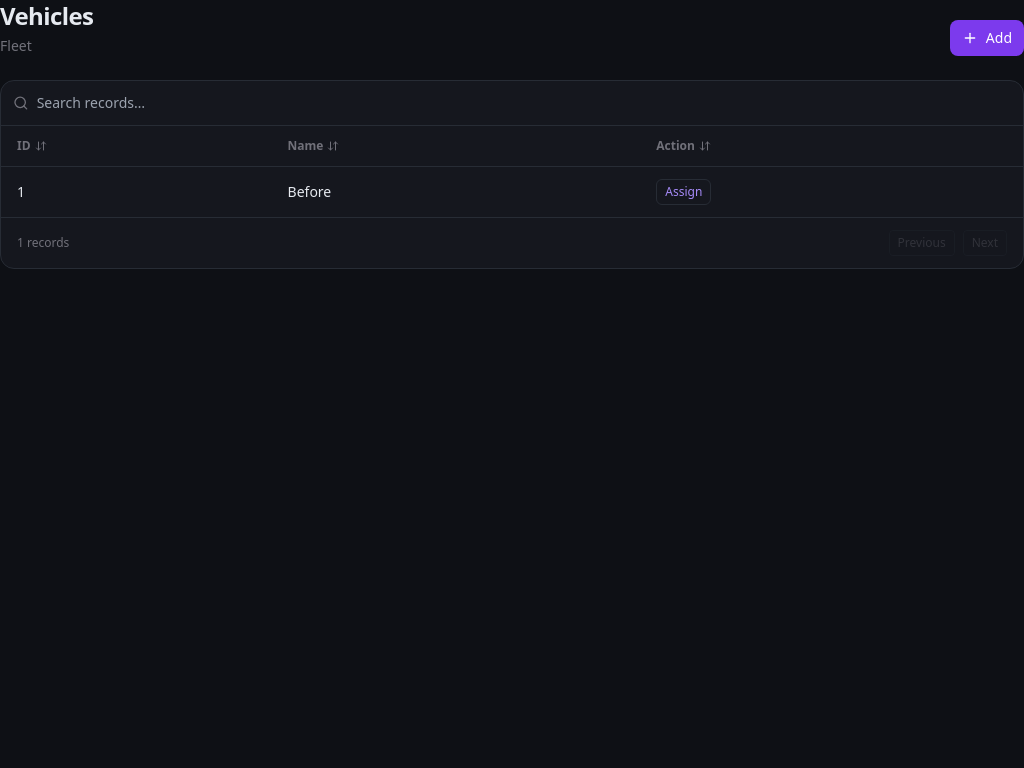
Test case: Required UI operations › refreshes rows after an action without opening the edit form
The width and height of the screenshot is (1024, 768).
Step 1. Click the button "Assign" → (684, 192), box [656,179,711,205]
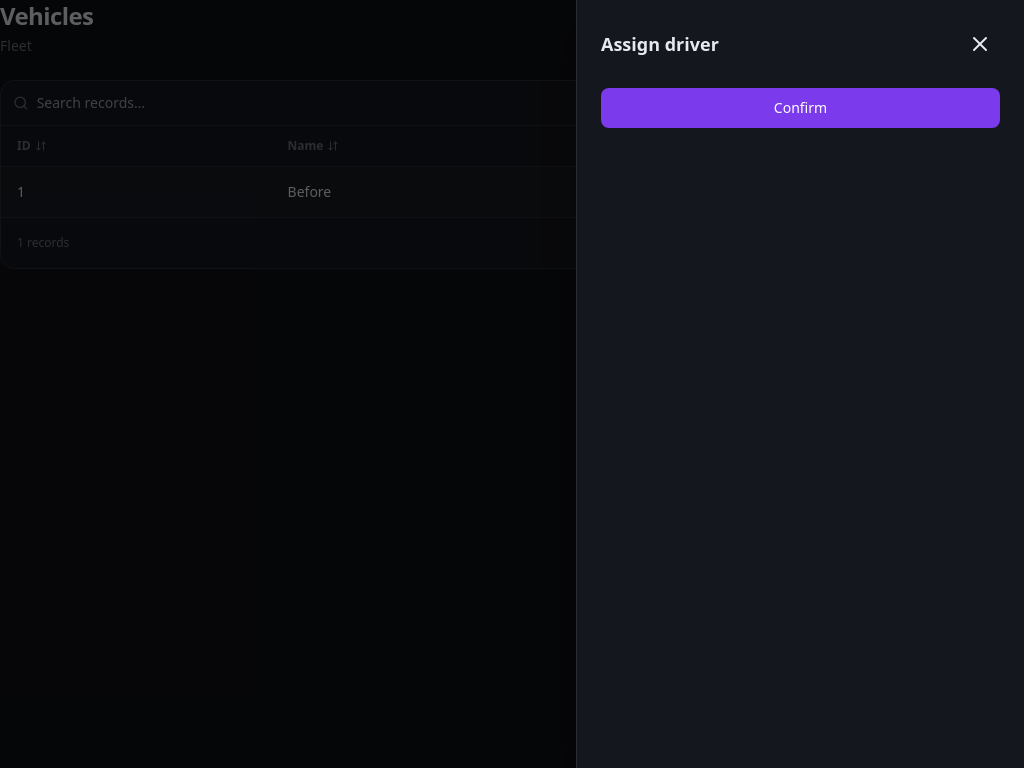
Check: the number of dialogs is 1
Step 2. Click the button "Confirm" → (800, 108), box [601,88,1000,128]
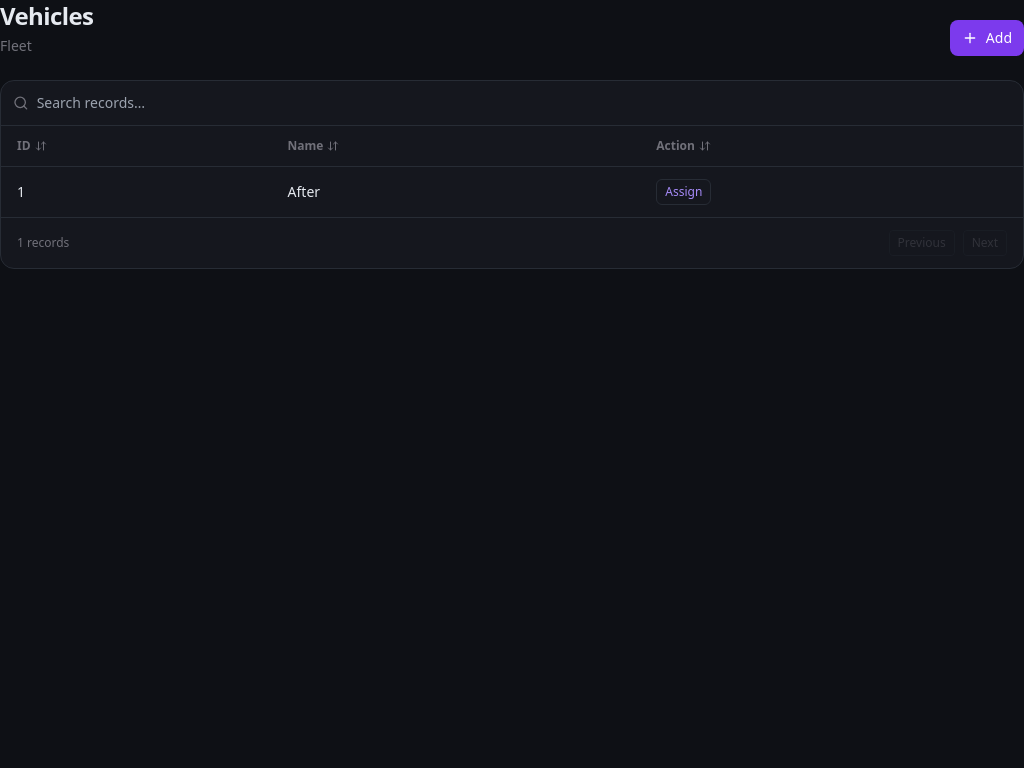
Check: the text "After" is shown, box [272,166,640,217]
Check: the dialog is gone
